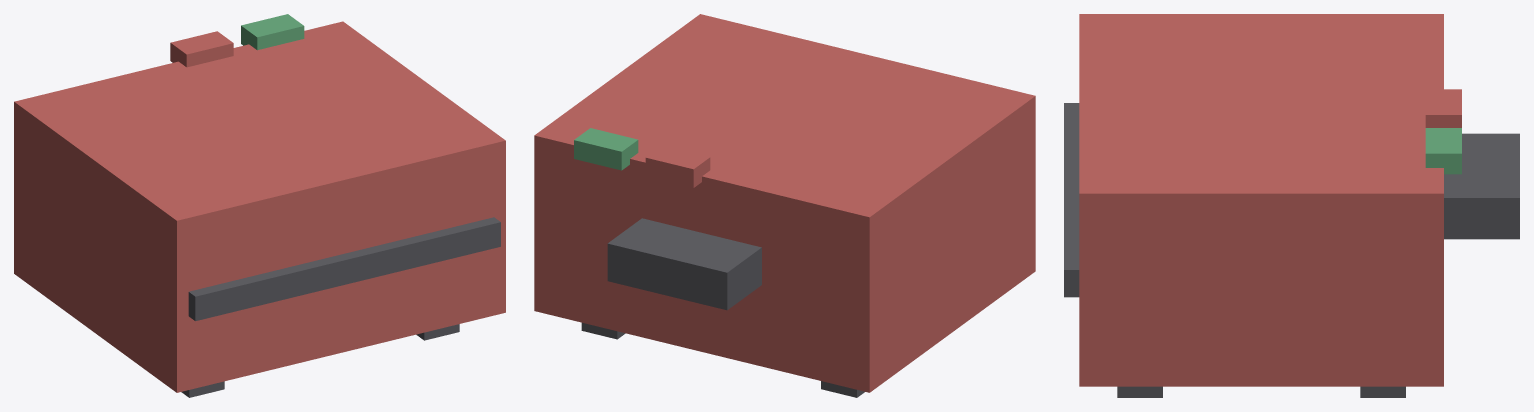
The model's file is eletro_sanduicheira.glb.
3 views of the same model, side by side, from view 1: azimuth 30°, elevation 25°; view 2: azimuth 150°, elevation 25°; view 3: azimuth 270°, elevation 25° (orthographic). The views are drawn at different scales.
Parts seen in each view (by area): view 1: ELETRO_SANDUICHEIRA_v01; view 2: ELETRO_SANDUICHEIRA_v01; view 3: ELETRO_SANDUICHEIRA_v01.
Boxes of the visible parts, <box> form: ELETRO_SANDUICHEIRA_v01: <box>14,14,505,397</box>; ELETRO_SANDUICHEIRA_v01: <box>534,14,1035,397</box>; ELETRO_SANDUICHEIRA_v01: <box>1064,14,1519,397</box>.
Bounding box in the file's own units: 0.28 × 0.1705 × 0.3.
